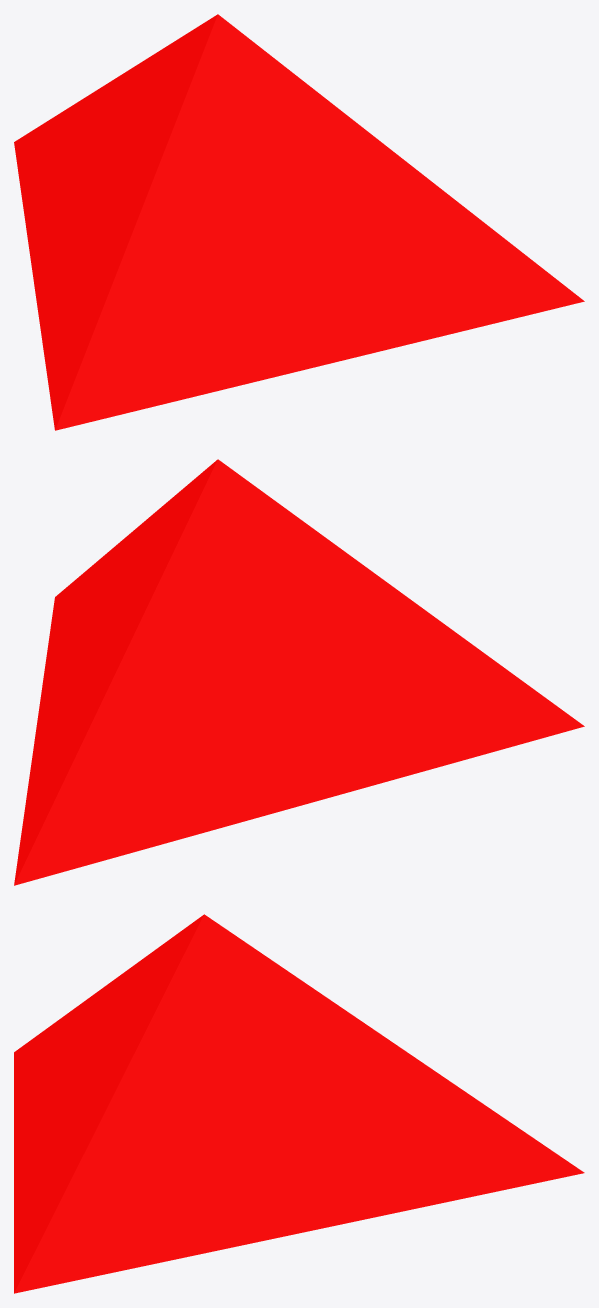
The model's file is arrow.glb.
3 renders of one model, top to bottom at view 1: azimuth 30°, elevation 25°; view 2: azimuth 150°, elevation 25°; view 3: azimuth 270°, elevation 25°, orthographic. The views are drawn at different scales.
Visible parts, largest first — view 1: Cube; view 2: Cube; view 3: Cube.
Boxes of the visible parts, x1,y1,x2,y2 form: Cube: (14, 14, 584, 430); Cube: (14, 459, 584, 885); Cube: (14, 914, 584, 1293).
Bounding box in the file's own units: 0.5 × 0.25 × 0.5.
